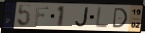1: (56, 6, 66, 29)
5: (17, 4, 33, 28)
D: (112, 7, 129, 29)
F: (34, 5, 50, 27)
J: (74, 7, 90, 28)
L: (95, 6, 109, 30)
